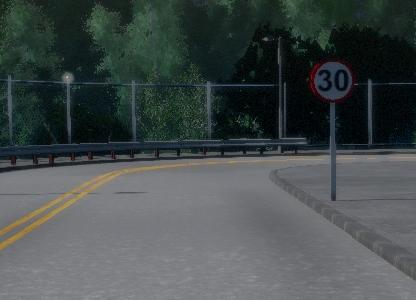Speed_30: (304, 54, 357, 105)
